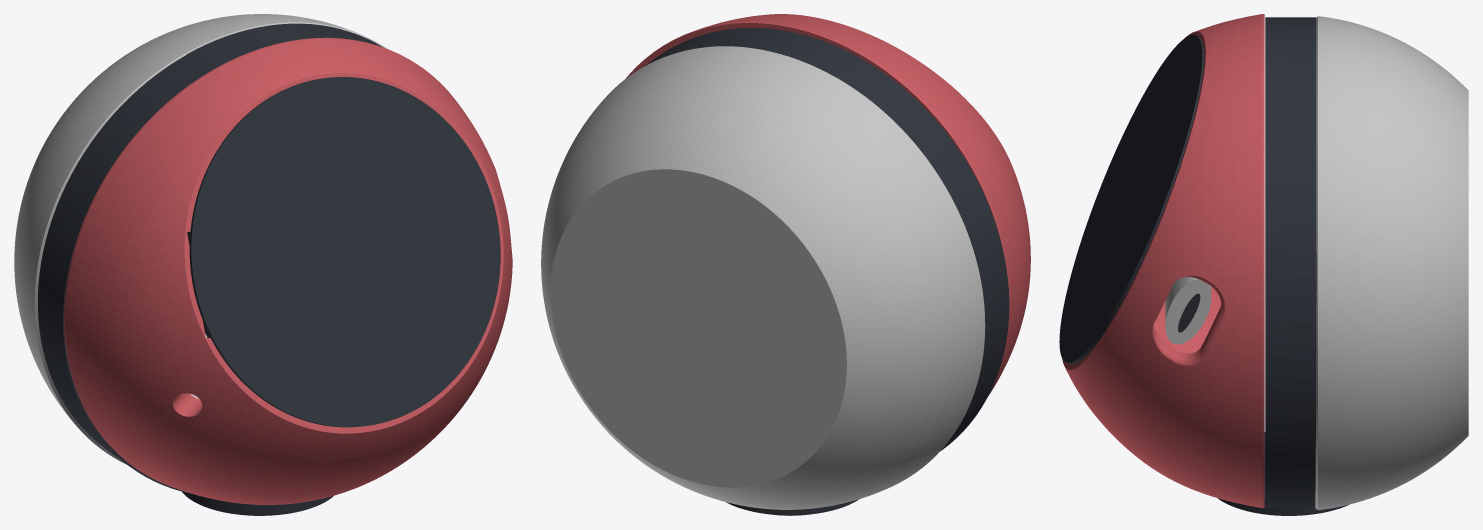
Rendered from poketama-poke-screen-battery.glb.
The picture shows the model from 3 angles, left to right: view 1: azimuth 30°, elevation 25°; view 2: azimuth 150°, elevation 25°; view 3: azimuth 270°, elevation 25°; orthographic projection.
Size of the model in its own units: 1.93 by 2 by 1.58.
